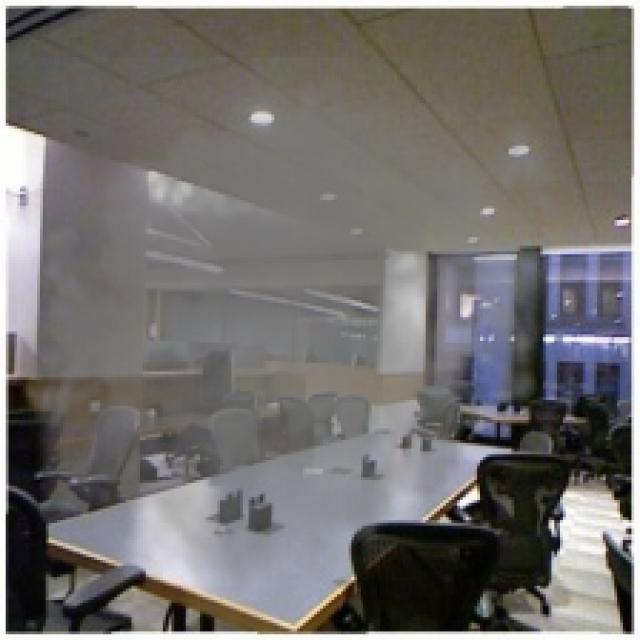Smoke: (12, 57, 574, 623)
